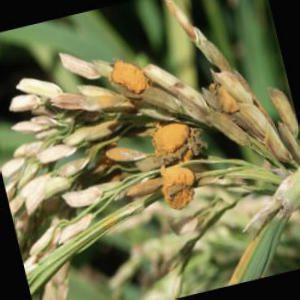Leaf_Scald: (154, 126, 197, 212), (108, 60, 152, 94), (105, 134, 147, 166)
